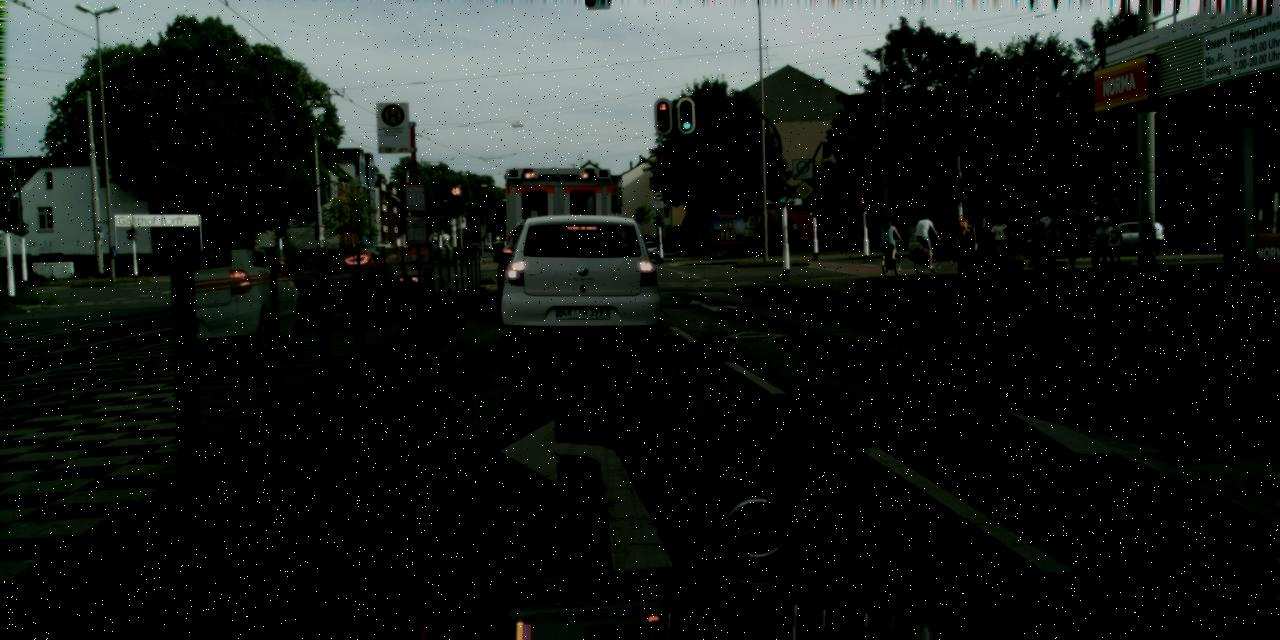ped: (1038, 205, 1063, 269), (1088, 204, 1113, 264), (1026, 209, 1051, 269), (954, 210, 979, 270), (1060, 207, 1084, 267), (989, 214, 1010, 267), (916, 212, 936, 266), (1104, 217, 1124, 267), (972, 216, 992, 266), (880, 216, 899, 264), (1084, 225, 1102, 268)
